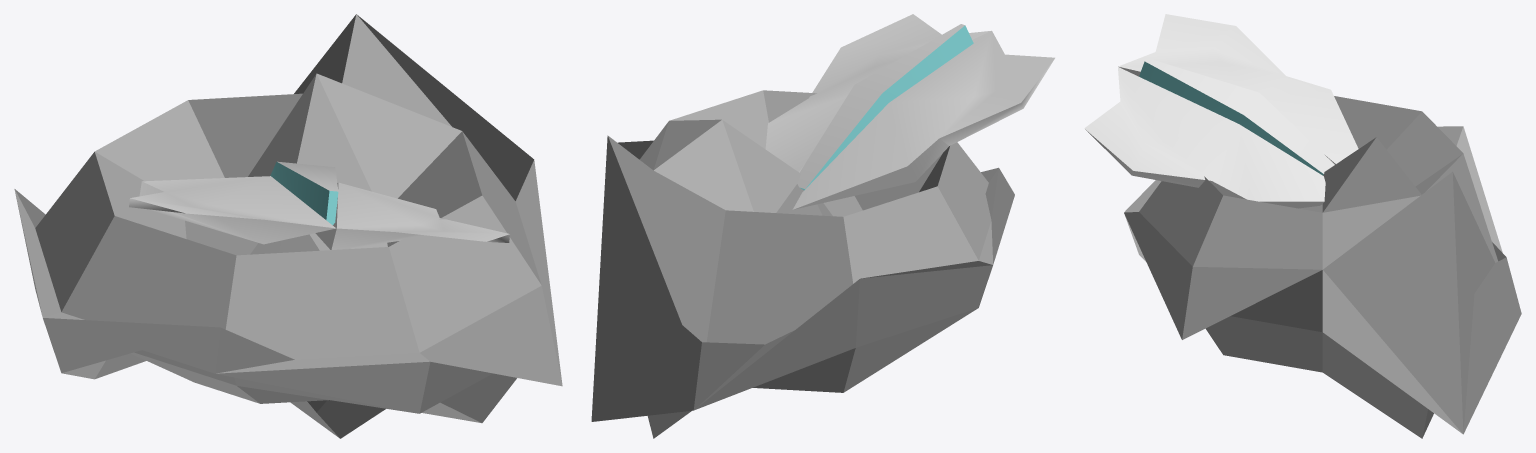
File: polarice.fbx
3 views of the same model, side by side, from view 1: azimuth 30°, elevation 25°; view 2: azimuth 150°, elevation 25°; view 3: azimuth 270°, elevation 25° (orthographic). The views are drawn at different scales.
Visible parts, largest first — view 1: pSphere1, polySurface9, pCube1; view 2: pSphere1, polySurface9, pCube1; view 3: pSphere1, polySurface9, pCube1.
Part boxes in pixels (x1,y1,x2,y2): pSphere1: (14,14,562,438); polySurface9: (129,176,509,249); pCube1: (270,161,338,225); pSphere1: (591,90,1014,438); polySurface9: (765,14,1054,209); pCube1: (797,24,973,190); pSphere1: (1124,96,1521,438); polySurface9: (1084,14,1358,208); pCube1: (1139,58,1334,175).
Bounding box in the file's own units: 16.5 × 14.19 × 18.14.
